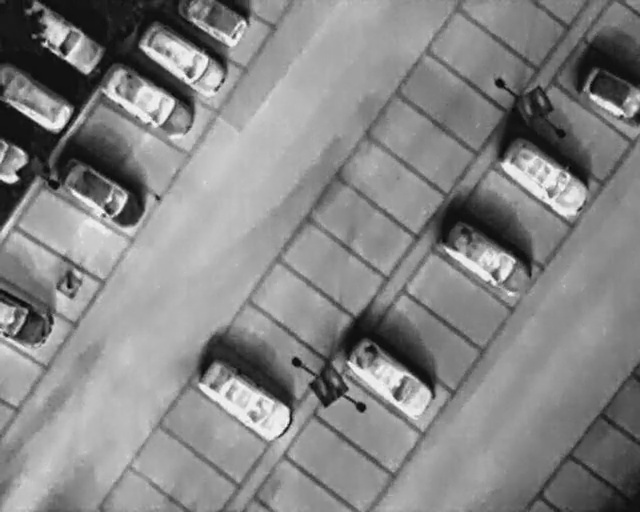Car: (435, 212, 539, 306), (194, 355, 298, 447), (342, 332, 441, 426), (495, 134, 598, 222), (98, 62, 199, 148), (132, 17, 233, 103), (58, 157, 150, 234), (17, 0, 107, 73), (0, 65, 74, 135), (582, 63, 639, 123), (1, 286, 53, 344)
